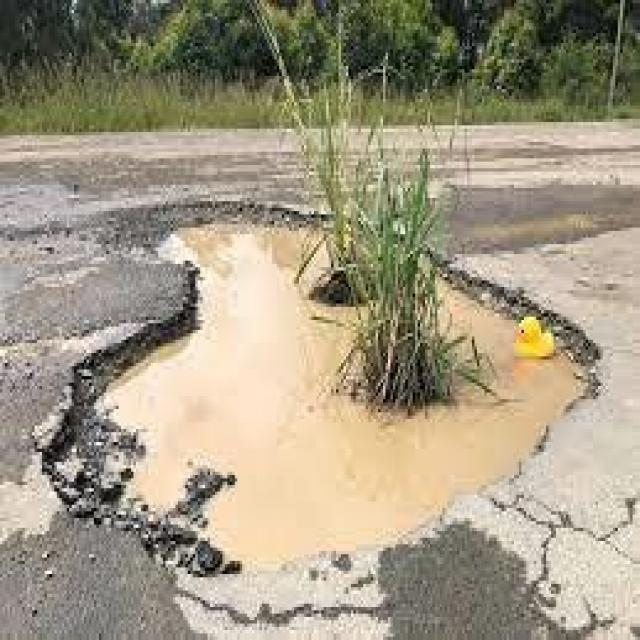Pothole: (36, 191, 616, 592)
